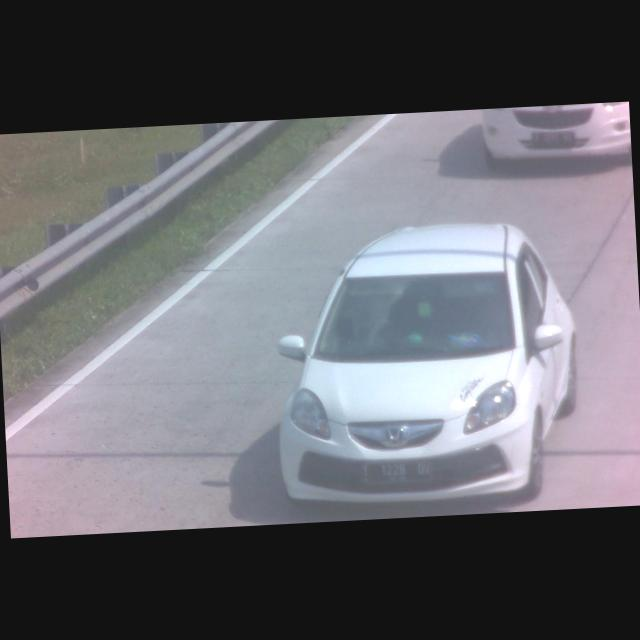plate: (358, 458, 442, 487)
